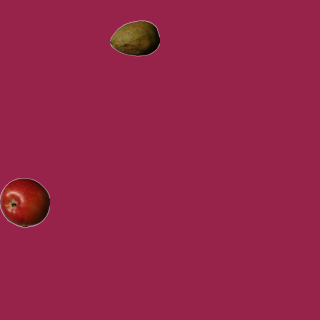Apple Braeburn: (0, 177, 49, 227)
Papaya: (109, 13, 159, 63)
